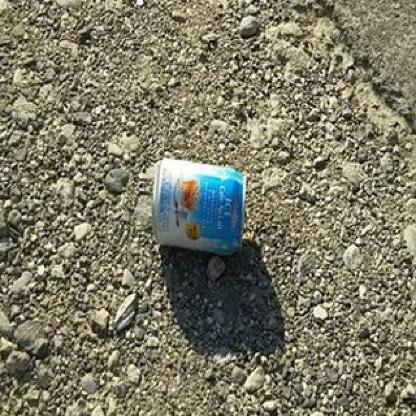Can: (154, 160, 249, 254)
